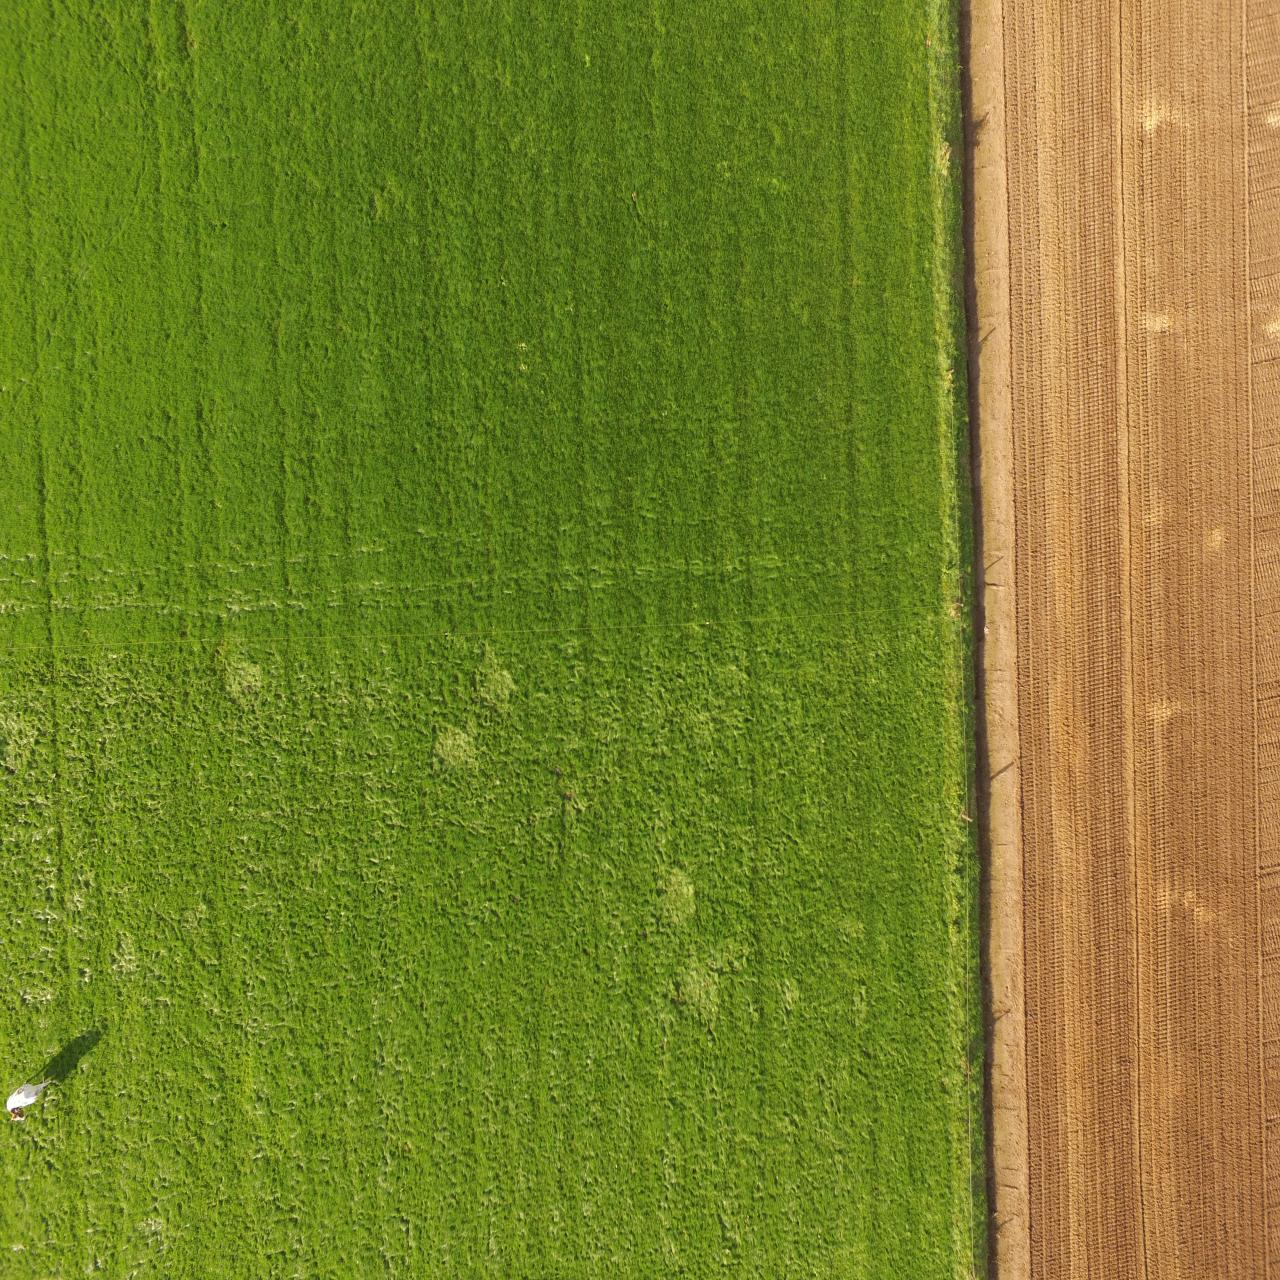cow: (7, 1074, 53, 1122)
